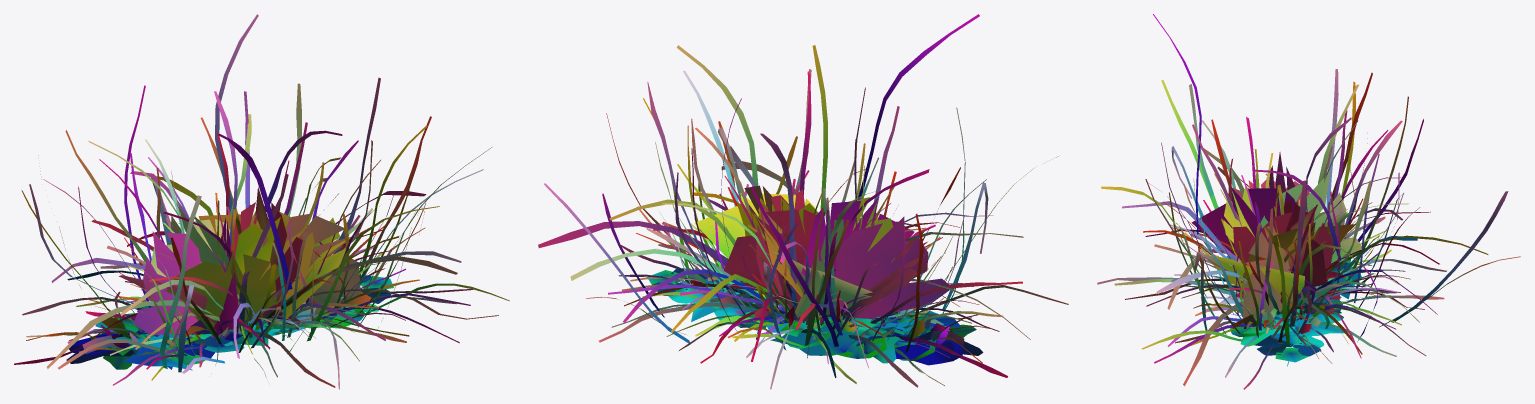
Rendered from Wild_Grass_vdilbaiia_Mid_vdilbaiia_VarA_LOD1.fbx.
The picture shows the model from 3 angles, left to right: view 1: azimuth 30°, elevation 25°; view 2: azimuth 150°, elevation 25°; view 3: azimuth 270°, elevation 25°; orthographic projection. The views are drawn at different scales.
Visible parts, largest first — view 1: _zoxe_VarA_LOD2; view 2: _zoxe_VarA_LOD2; view 3: _zoxe_VarA_LOD2.
Part boxes in pixels (x1,y1,x2,y2): _zoxe_VarA_LOD2: (14, 14, 509, 389); _zoxe_VarA_LOD2: (538, 14, 1068, 389); _zoxe_VarA_LOD2: (1097, 14, 1520, 389).
Size of the model in its own units: 224 by 130 by 203.
